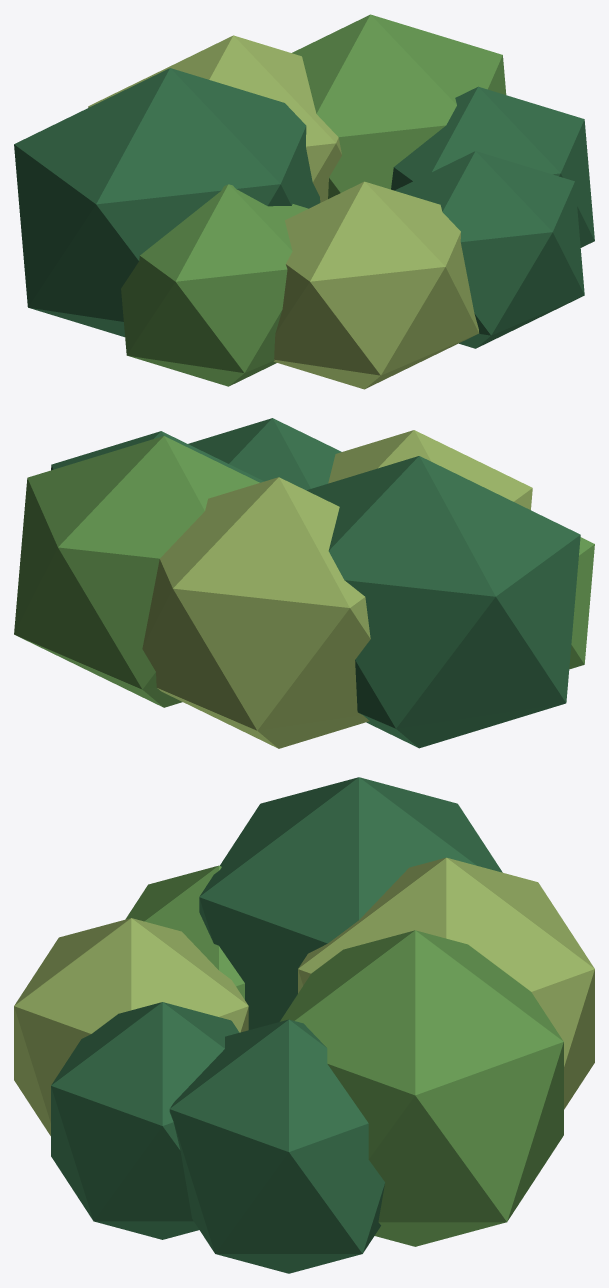
File: bush_low.glb
3 views of the same model, one above another, from view 1: azimuth 30°, elevation 25°; view 2: azimuth 150°, elevation 25°; view 3: azimuth 270°, elevation 25° (orthographic). The views are drawn at different scales.
Visible parts, largest first — view 1: bush_low; view 2: bush_low; view 3: bush_low.
Boxes of the visible parts, box(x1,y1,x2,y2) form: bush_low: box(14, 14, 594, 389); bush_low: box(14, 418, 594, 748); bush_low: box(14, 777, 594, 1273).
Size of the model in its own units: 2.09 by 1.07 by 1.65.
